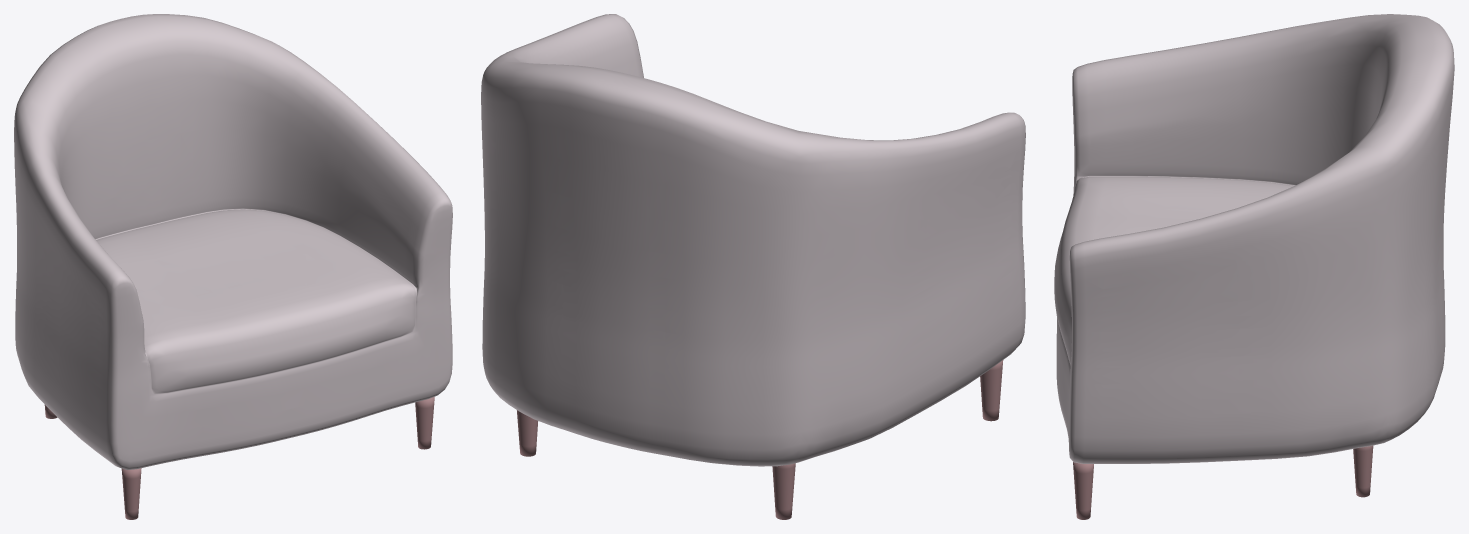
File: chair_1.glb
3 renders of one model, left to right at view 1: azimuth 30°, elevation 25°; view 2: azimuth 150°, elevation 25°; view 3: azimuth 270°, elevation 25°, orthographic. The views are drawn at different scales.
Parts seen in each view (by area): view 1: Loft02, Object01; view 2: Loft02, Object01; view 3: Loft02, Object01.
Boxes of the visible parts, box(x1,y1,x2,y2) form: Loft02: box(14, 14, 452, 470); Object01: box(44, 397, 434, 519); Loft02: box(481, 14, 1025, 466); Object01: box(517, 360, 1003, 519); Loft02: box(1054, 14, 1454, 463); Object01: box(1073, 445, 1373, 519).
Bounding box in the file's own units: 66.21 × 64.09 × 59.28.
